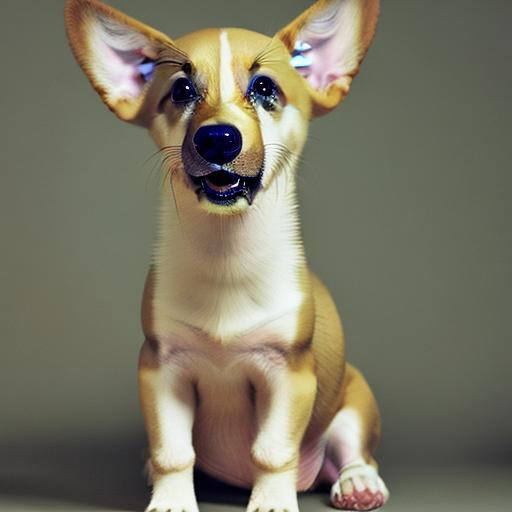eye: (241, 76, 286, 107), (166, 78, 206, 107)
